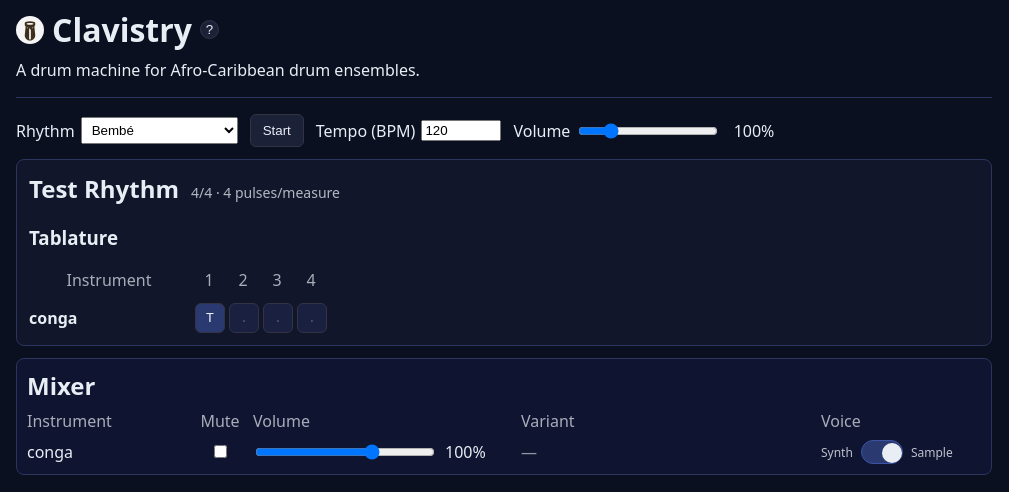
Test case: App component - samplesLoaded behavior › should show spinner and disable button while decoding on Start click
# Click start
What coordinates should you click on to do the following:
click the button "Start"
I would click on:
 (277, 130)
Its box is [250,114,304,147].
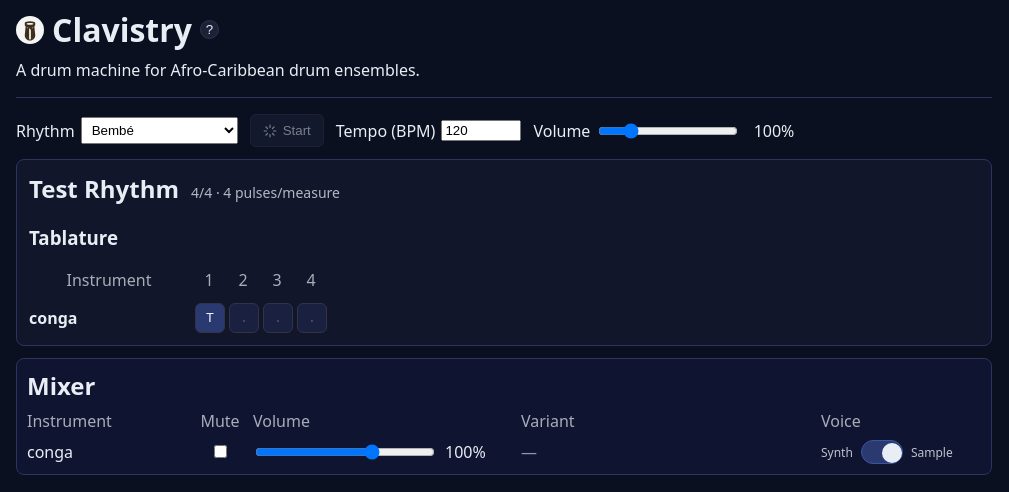
Check: the button "Start" is disabled, box [250,114,324,147]
